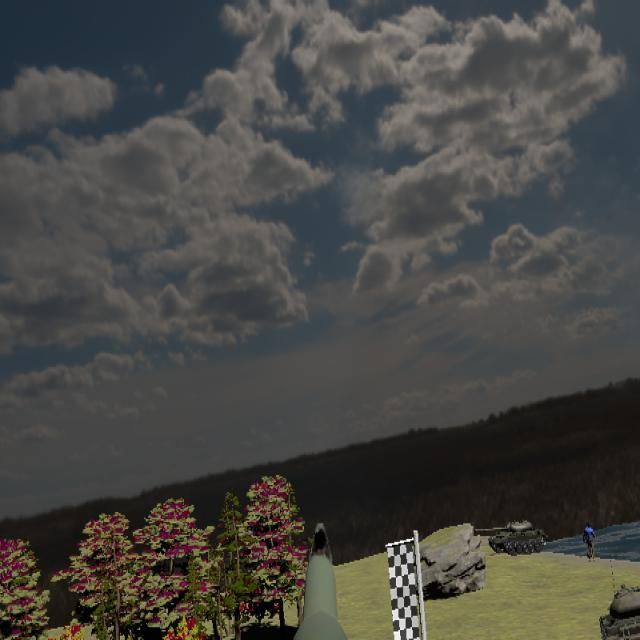Tank: (474, 518, 547, 557), (598, 584, 640, 640)
